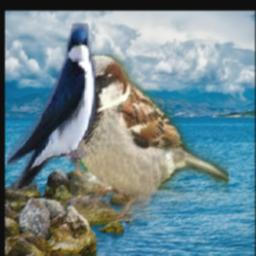Sparrow: (70, 55, 229, 222)
Swallow: (8, 23, 97, 189)
